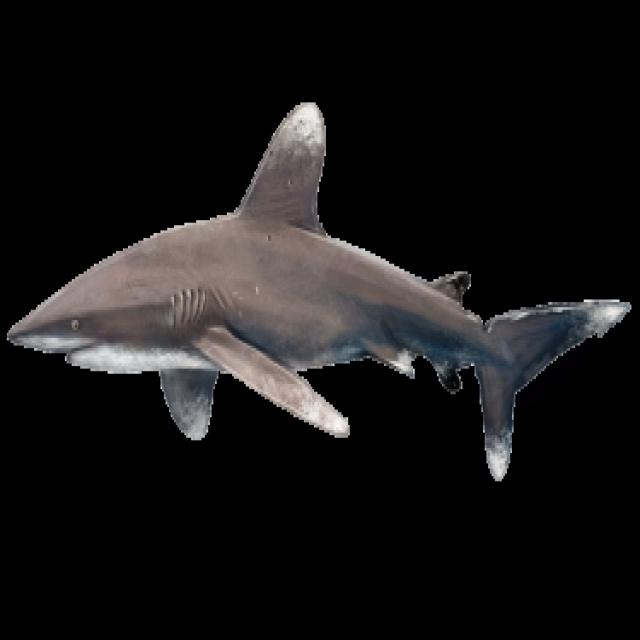gaviota: (7, 102, 630, 479)
